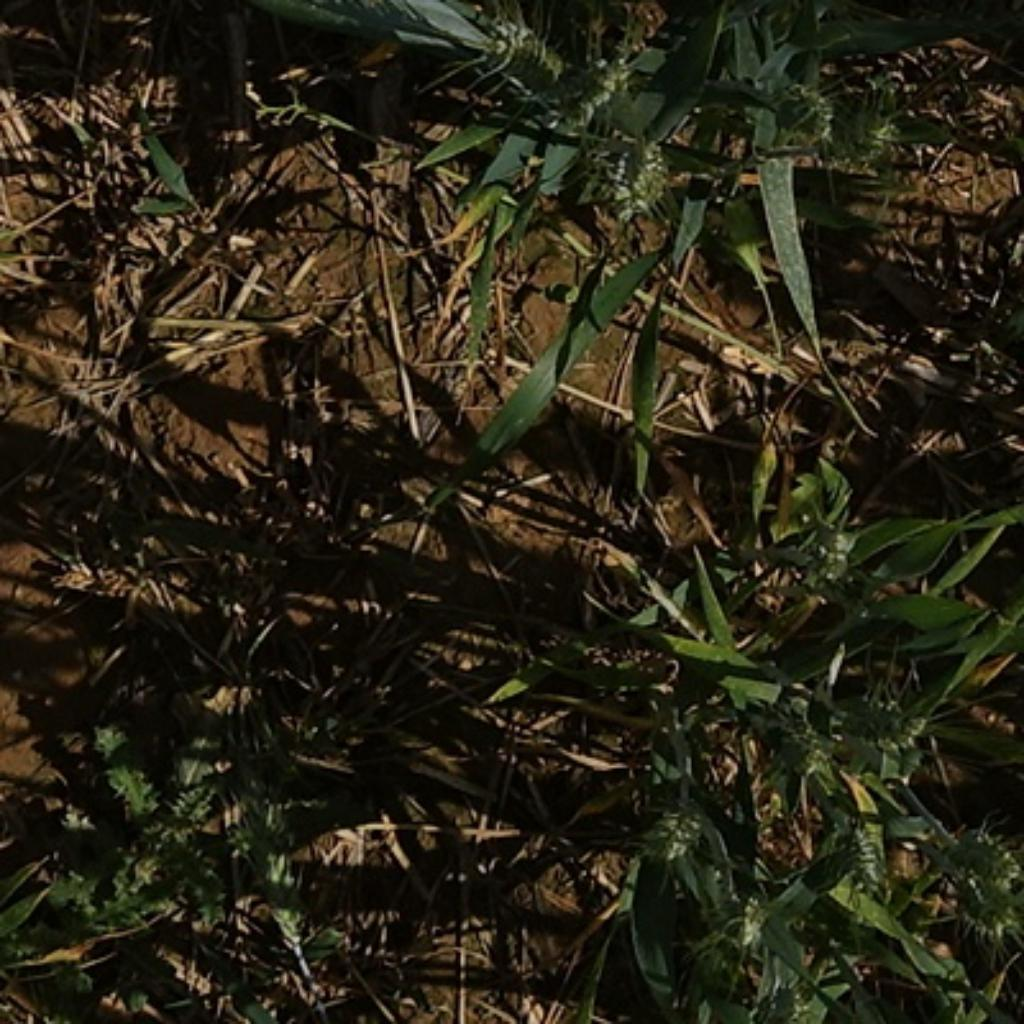0-0: (216, 765, 331, 973), (916, 808, 1024, 924), (816, 673, 934, 778), (455, 9, 585, 93), (640, 770, 729, 872), (585, 123, 677, 216), (735, 76, 834, 160), (785, 503, 867, 598), (827, 98, 923, 179), (701, 883, 788, 972), (558, 38, 647, 122), (757, 709, 837, 788), (826, 811, 890, 898)
